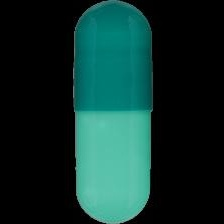0378-6380: (0, 0, 224, 224)
